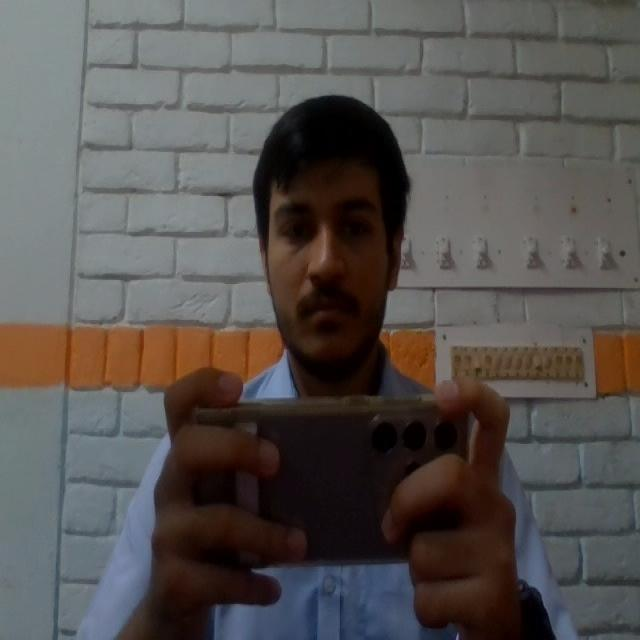phone: (180, 395, 477, 567)
using-phone: (80, 102, 568, 640)
